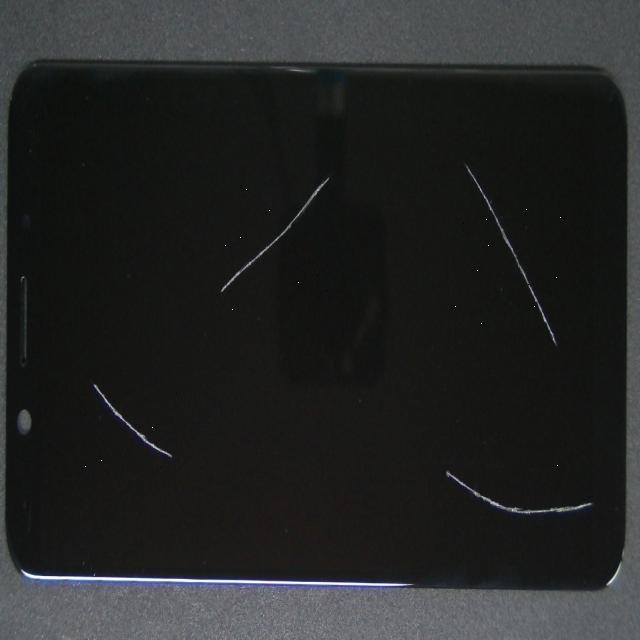scratch: (350, 243, 640, 640), (221, 76, 640, 279), (105, 161, 317, 484), (54, 172, 126, 555)
